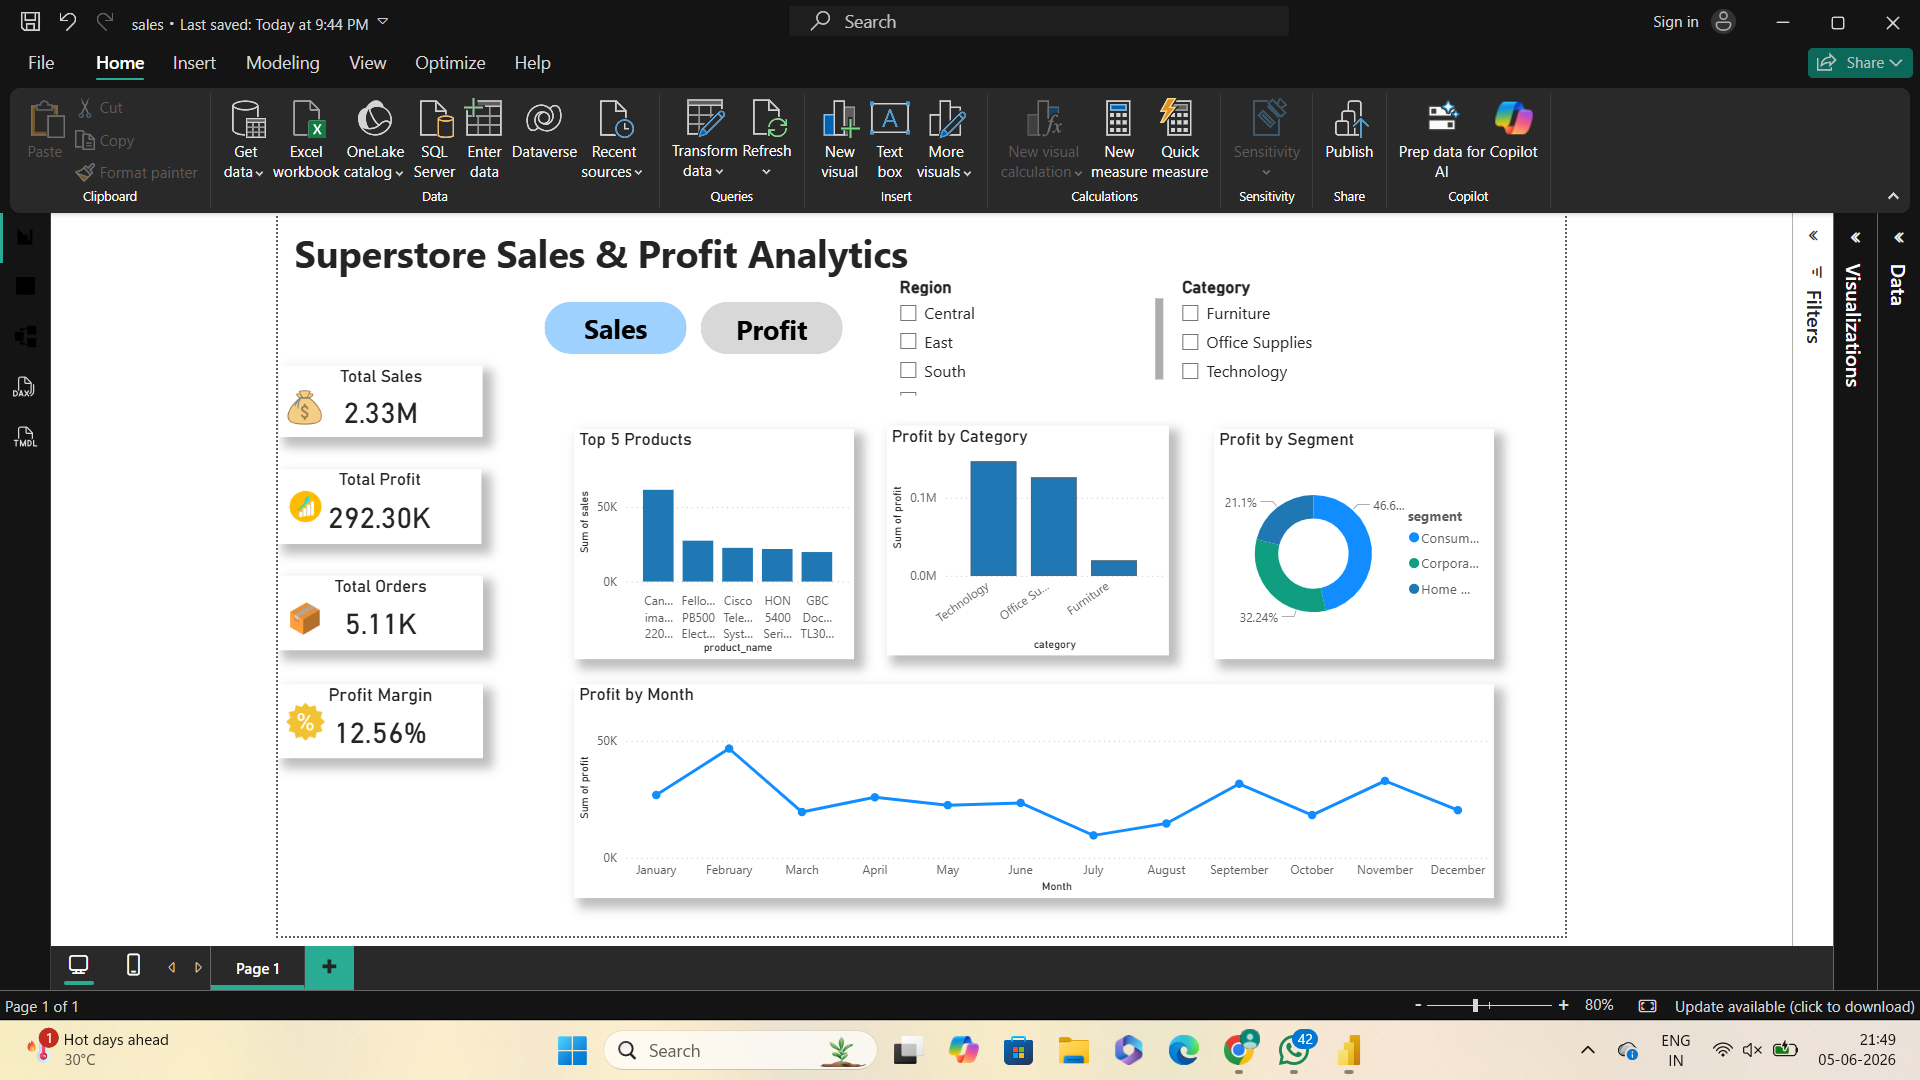

The page's visual inventory and layout, read from the dashboard file:
{"tool":"powerbi","page":{"name":"Page 1","canvas":[1280,720],"ordinal":0},"visuals":[{"type":"card","title":"Total Sales","fields":{"Values":["Sum(sample_superstore.sales)"]},"box":[1.7,152.4,202.6,71],"z":0},{"type":"card","title":"Total Profit","fields":{"Values":["Sum(sample_superstore.profit)"]},"box":[0,254.5,202.6,74.5],"z":1000},{"type":"card","title":"Total Orders","fields":{"Values":["Count(sample_superstore.order_id)"]},"box":[0,360.2,204.3,74.5],"z":2000},{"type":"clusteredColumnChart","title":"Top 5 Products","fields":{"Category":["sample_superstore.product_name"],"Y":["Sum(sample_superstore.sales)"]},"box":[294.4,214.7,278.8,228.6],"z":5000},{"type":"textbox","box":[1.2,10,638.2,62.2],"z":7000},{"type":"donutChart","title":"Profit by Segment","fields":{"Category":["sample_superstore.segment"],"Y":["Sum(sample_superstore.profit)"]},"box":[931.6,214.7,278.8,228.6],"z":8000},{"type":"clusteredColumnChart","title":"Profit by Category","fields":{"Category":["sample_superstore.category"],"Y":["Sum(sample_superstore.profit)"]},"box":[606.1,211.3,280.5,228.6],"z":9000},{"type":"lineChart","title":"Profit by Month","fields":{"Category":["sample_superstore.order_date.Variation.Date Hierarchy.Month"],"Y":["Sum(sample_superstore.profit)"]},"box":[294.8,469,915.6,212.7],"z":10000},{"type":"actionButton","box":[264.9,88.3,142,51.9],"z":11000},{"type":"actionButton","box":[420.5,88.3,141.8,52.2],"z":12000},{"type":"slicer","fields":{"Values":["sample_superstore.region"]},"box":[606.1,58.9,280.5,128.1],"z":13000},{"type":"slicer","fields":{"Values":["sample_superstore.category"]},"box":[886.9,58.5,281.1,129.4],"z":14000},{"type":"card","title":"Profit Margin","fields":{"Values":["sample_superstore.Profit Margin %"]},"box":[0,469,204,73.4],"z":15000},{"type":"image","box":[6.2,175.4,41.1,36.1],"z":16000},{"type":"image","box":[0,383.1,53.5,41.1],"z":17000},{"type":"image","box":[6.2,276.2,42.3,32.3],"z":18000},{"type":"image","box":[6.2,483.9,42.3,44.8],"z":19000}]}

Visuals, with their boxes in screenshot pixels (x1, y1, x2, y2):
"Total Sales" card: {"left": 43, "top": 155, "right": 342, "bottom": 260}
"Total Profit" card: {"left": 40, "top": 306, "right": 340, "bottom": 417}
"Total Orders" card: {"left": 40, "top": 463, "right": 342, "bottom": 573}
"Top 5 Products" clusteredColumnChart: {"left": 475, "top": 248, "right": 888, "bottom": 586}
textbox: {"left": 42, "top": 0, "right": 986, "bottom": 37}
"Profit by Segment" donutChart: {"left": 1418, "top": 248, "right": 1830, "bottom": 586}
"Profit by Category" clusteredColumnChart: {"left": 937, "top": 243, "right": 1352, "bottom": 581}
"Profit by Month" lineChart: {"left": 476, "top": 624, "right": 1830, "bottom": 938}
actionButton: {"left": 432, "top": 61, "right": 642, "bottom": 137}
actionButton: {"left": 662, "top": 61, "right": 872, "bottom": 138}
slicer - sample_superstore.region: {"left": 937, "top": 17, "right": 1352, "bottom": 207}
slicer - sample_superstore.category: {"left": 1352, "top": 17, "right": 1768, "bottom": 208}
"Profit Margin" card: {"left": 40, "top": 624, "right": 342, "bottom": 732}
image: {"left": 49, "top": 189, "right": 110, "bottom": 243}
image: {"left": 40, "top": 497, "right": 119, "bottom": 558}
image: {"left": 49, "top": 339, "right": 112, "bottom": 386}
image: {"left": 49, "top": 646, "right": 112, "bottom": 712}
